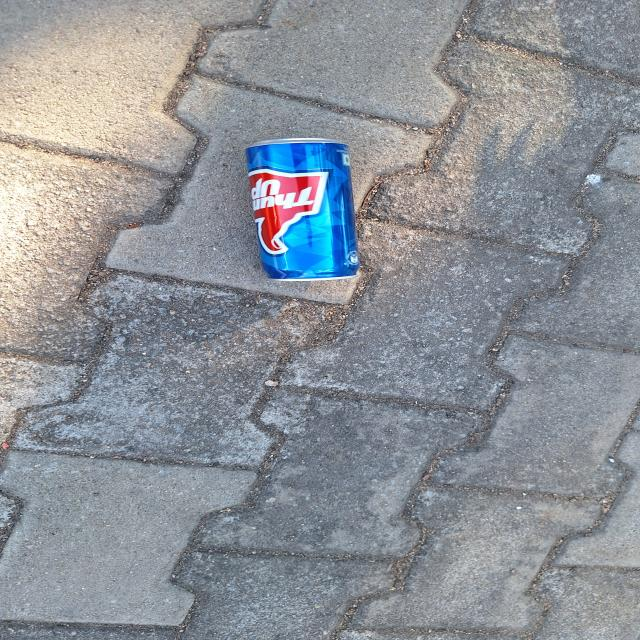Thums Up: (232, 135, 384, 284)
